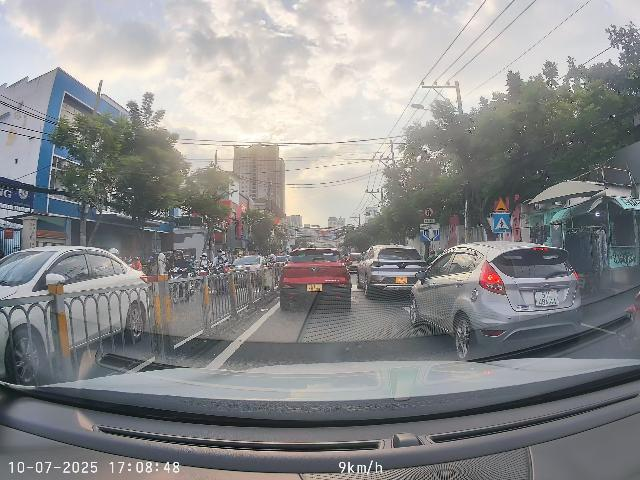124b-cam-oto-quay-dau-xe: (423, 207, 434, 217)
221-duong-go-ghe: (494, 196, 509, 212)
423a-duong-nguoi-di-bo-sang-ngang-1: (493, 213, 510, 233)
